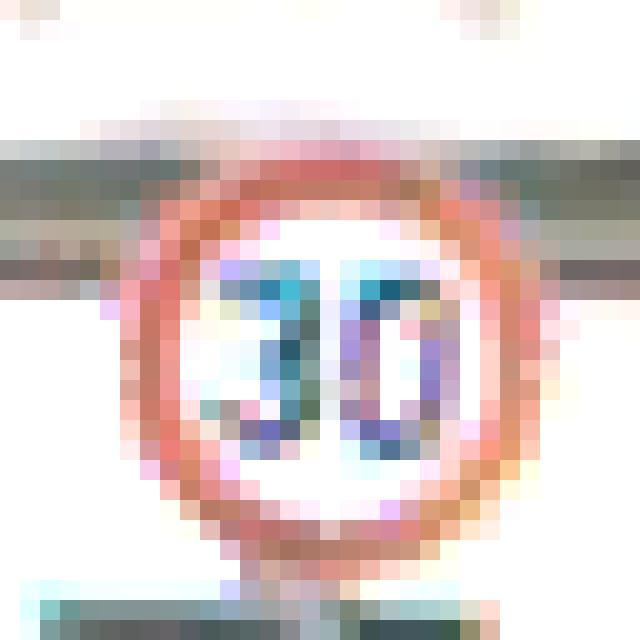Speed Limit -30-: (90, 90, 530, 530)
